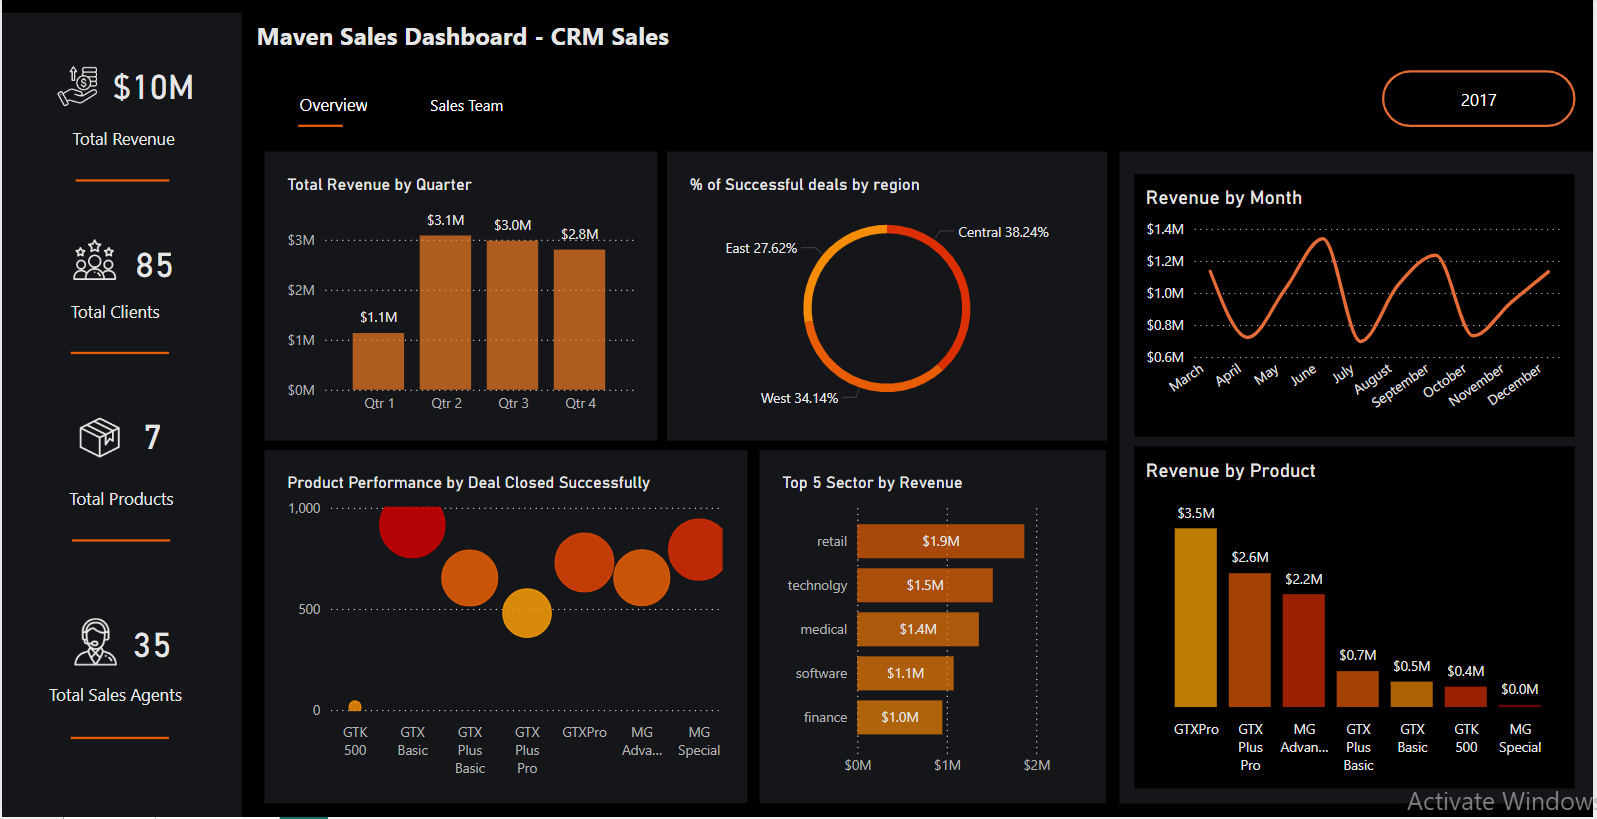

The page's visual inventory and layout, read from the dashboard file:
{"tool":"powerbi","page":{"name":"Home ","canvas":[1400,720],"ordinal":0},"visuals":[{"type":"actionButton","box":[242.1,73.1,99.5,39.6],"z":0,"group":"g1"},{"type":"shape","box":[0,12,210.9,708.3],"z":0},{"type":"shape","box":[261.3,99.5,39.6,25.2],"z":1000,"group":"g1"},{"type":"shape","box":[983.3,134.5,416.7,573.8],"z":1000},{"type":"textbox","box":[218.9,11.7,404.1,60.9],"z":2000},{"type":"actionButton","box":[359.5,72.6,98.8,40.5],"z":3000},{"type":"columnChart","title":"Total Revenue by Quarter","fields":{"Category":["sales_pipeline.close_date.Variation.Date Hierarchy.Quarter"],"Y":["Sum(sales_pipeline.close_value)"]},"box":[231,134.5,345.2,254.8],"z":4000},{"type":"scatterChart","title":"Product Performance by Deal Closed Successfully","fields":{"X":["sales_pipeline.product"],"Y":["Count(sales_pipeline.Index)"],"Size":["Count(sales_pipeline.Index)"]},"box":[231,396.4,425,310.7],"z":5000},{"type":"donutChart","title":"% of  Successful deals by region","fields":{"Y":["Sum(sales_pipeline.Index)"],"Category":["sales_teams.regional_office"]},"box":[584.5,134.5,386.9,254.8],"z":6000},{"type":"clusteredBarChart","title":"Top 5 Sector by Revenue","fields":{"Category":["accounts.sector"],"Y":["Sum(sales_pipeline.close_value)"]},"box":[666.7,396.4,304.8,310.7],"z":7000},{"type":"image","box":[41.9,54.2,49.1,45.5],"z":8000},{"type":"card","title":"Total Revenue","fields":{"Values":["Sum(sales_pipeline.close_value)"]},"box":[90.4,49.8,86.5,52.4],"z":9000},{"type":"textbox","box":[49.1,108.1,115.1,39.6],"z":10000},{"type":"shape","box":[64.9,147.7,82.2,24.5],"z":11000},{"type":"group","id":"g1","title":"Group 1","box":[242.1,73.1,99.5,51.5],"z":12000},{"type":"image","box":[57.7,205.8,48.5,47.2],"z":13000},{"type":"card","title":"Total Revenue","fields":{"Values":["Count(accounts.account)"]},"box":[104.9,205.8,60.3,53.7],"z":14000},{"type":"textbox","box":[41.8,259.1,115.4,40.4],"z":15000},{"type":"shape","box":[60.6,299.5,86.6,24.5],"z":16000},{"type":"image","box":[57.7,361.8,57.7,48.5],"z":17000},{"type":"card","title":"Total Revenue","fields":{"Values":["Count(products.product)"]},"box":[102.2,357.9,60.3,52.4],"z":18000},{"type":"textbox","box":[47,424.2,115.4,40.4],"z":19000},{"type":"shape","box":[61.5,464.6,86.6,24.5],"z":20000},{"type":"card","title":"Total Revenue","fields":{"Values":["Count(sales_teams.sales_agent)"]},"box":[102.2,540.1,60.3,52.4],"z":21000},{"type":"image","box":[52.4,540.1,59,51.1],"z":22000},{"type":"shape","box":[60.6,637.7,86.6,24.5],"z":23000},{"type":"textbox","box":[31.7,597.3,135.6,40.4],"z":24000},{"type":"columnChart","title":"Revenue by Product","fields":{"Category":["sales_pipeline.product"],"Y":["Sum(sales_pipeline.close_value)"]},"box":[996.4,394,386.9,301.2],"z":25000},{"type":"lineChart","title":"Revenue by Month","fields":{"Y":["Sum(sales_pipeline.close_value)"],"Category":["sales_pipeline.close_date.Variation.Date Hierarchy.Month"]},"box":[996.4,153.6,386.9,231],"z":26000},{"type":"shape","box":[1214.3,63.1,170.2,50],"z":27000}]}

Visuals, with their boxes on the page's 1400x720 design canvas (x1, y1, x2, y2). These are canvas units, not pixel positions in the 1597x819 screenshot, which may show the page scaled, cropped or inside an application window:
actionButton: {"left": 242, "top": 73, "right": 342, "bottom": 113}
shape: {"left": 0, "top": 12, "right": 211, "bottom": 720}
shape: {"left": 261, "top": 100, "right": 301, "bottom": 125}
shape: {"left": 983, "top": 134, "right": 1400, "bottom": 708}
textbox: {"left": 219, "top": 12, "right": 623, "bottom": 73}
actionButton: {"left": 360, "top": 73, "right": 458, "bottom": 113}
"Total Revenue by Quarter" columnChart: {"left": 231, "top": 134, "right": 576, "bottom": 389}
"Product Performance by Deal Closed Successfully" scatterChart: {"left": 231, "top": 396, "right": 656, "bottom": 707}
"% of  Successful deals by region" donutChart: {"left": 584, "top": 134, "right": 971, "bottom": 389}
"Top 5 Sector by Revenue" clusteredBarChart: {"left": 667, "top": 396, "right": 972, "bottom": 707}
image: {"left": 42, "top": 54, "right": 91, "bottom": 100}
"Total Revenue" card: {"left": 90, "top": 50, "right": 177, "bottom": 102}
textbox: {"left": 49, "top": 108, "right": 164, "bottom": 148}
shape: {"left": 65, "top": 148, "right": 147, "bottom": 172}
"Group 1" group: {"left": 242, "top": 73, "right": 342, "bottom": 125}
image: {"left": 58, "top": 206, "right": 106, "bottom": 253}
"Total Revenue" card: {"left": 105, "top": 206, "right": 165, "bottom": 260}
textbox: {"left": 42, "top": 259, "right": 157, "bottom": 300}
shape: {"left": 61, "top": 300, "right": 147, "bottom": 324}
image: {"left": 58, "top": 362, "right": 115, "bottom": 410}
"Total Revenue" card: {"left": 102, "top": 358, "right": 162, "bottom": 410}
textbox: {"left": 47, "top": 424, "right": 162, "bottom": 465}
shape: {"left": 62, "top": 465, "right": 148, "bottom": 489}
"Total Revenue" card: {"left": 102, "top": 540, "right": 162, "bottom": 592}
image: {"left": 52, "top": 540, "right": 111, "bottom": 591}
shape: {"left": 61, "top": 638, "right": 147, "bottom": 662}
textbox: {"left": 32, "top": 597, "right": 167, "bottom": 638}
"Revenue by Product" columnChart: {"left": 996, "top": 394, "right": 1383, "bottom": 695}
"Revenue by Month" lineChart: {"left": 996, "top": 154, "right": 1383, "bottom": 385}
shape: {"left": 1214, "top": 63, "right": 1384, "bottom": 113}
